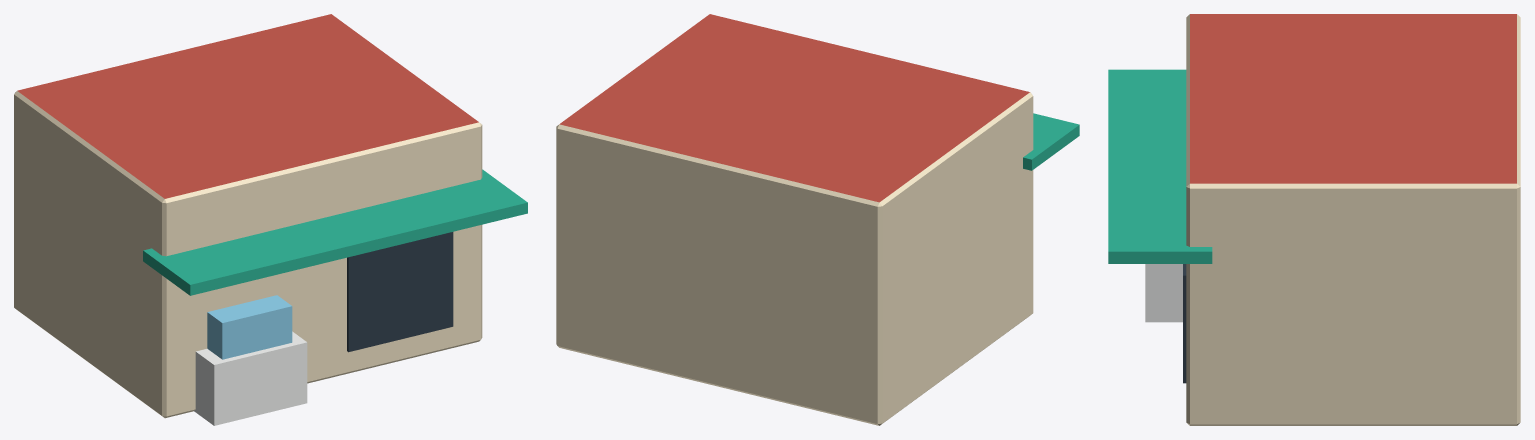
The model's file is shop.fbx.
3 renders of one model, left to right at view 1: azimuth 30°, elevation 25°; view 2: azimuth 150°, elevation 25°; view 3: azimuth 270°, elevation 25°, orthographic. The views are drawn at different scales.
Parts seen in each view (by area): view 1: shop; view 2: shop; view 3: shop.
Boxes of the visible parts, bbox=[...] form: shop: bbox=[14, 14, 527, 425]; shop: bbox=[556, 14, 1079, 425]; shop: bbox=[1108, 14, 1520, 425].
Size of the model in its own units: 5.8 by 3.6 by 5.55.
